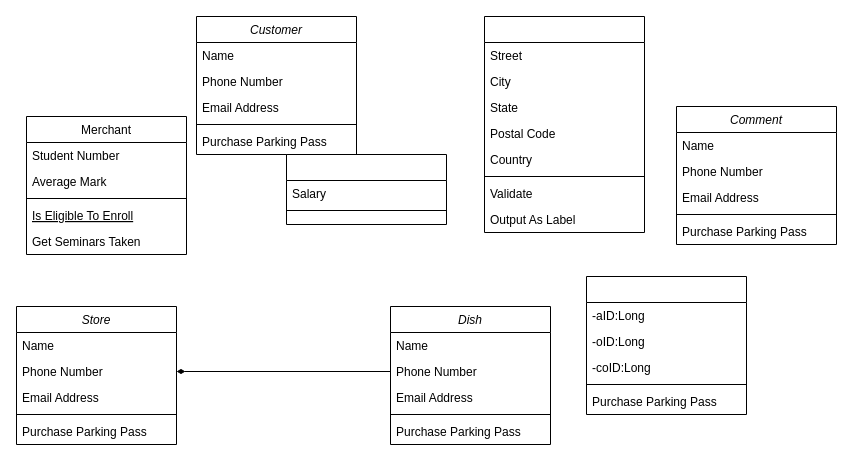
Some shapes in this 853 by 461 pixel diagram are drawn without their labels. The shapes that lost their labels are listed below. From the top down, each one's box as (x1, y1, x2, y2) in pixels, then its label:
(484, 16, 644, 232): Orders
(286, 154, 446, 224): PlatformSupervisor
(586, 276, 746, 414): Appeal
